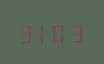one: (35, 20, 51, 44)
three: (18, 20, 34, 44), (69, 19, 85, 43)
zero: (52, 19, 68, 43)
